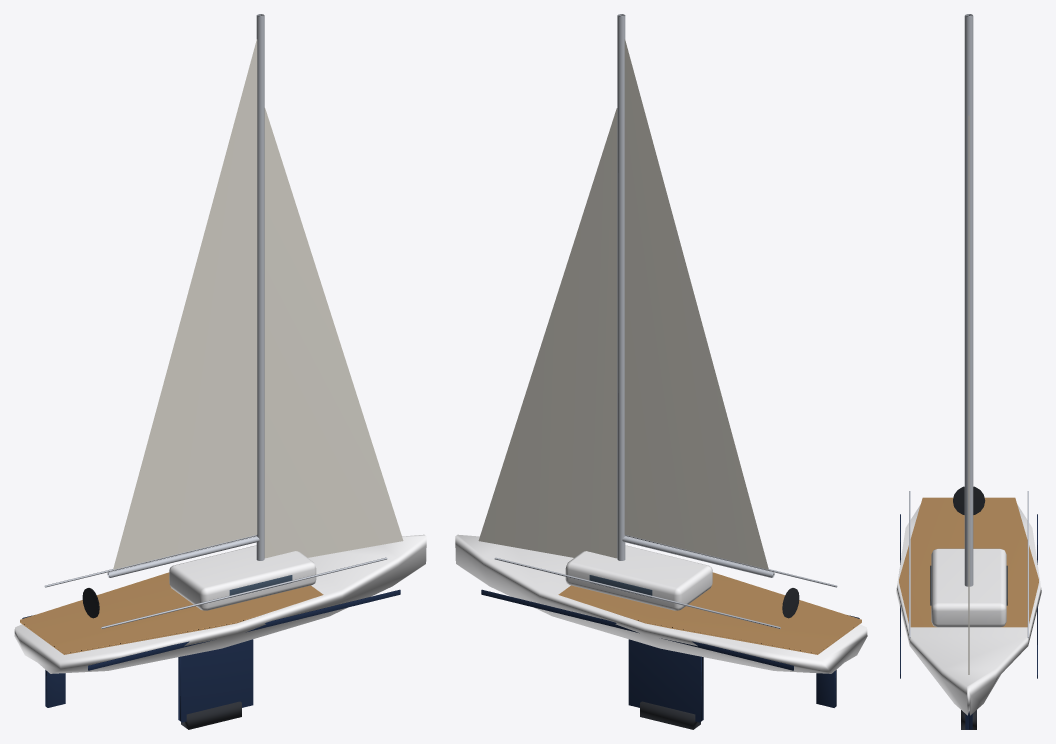
File: sailboat.glb
3 views of the same model, side by side, from view 1: azimuth 30°, elevation 25°; view 2: azimuth 150°, elevation 25°; view 3: azimuth 270°, elevation 25° (orthographic). The views are drawn at different scales.
Visible parts, largest first — view 1: body; view 2: body; view 3: body.
Boxes of the visible parts, bbox=[...] form: body: bbox=[14, 14, 426, 729]; body: bbox=[455, 14, 867, 729]; body: bbox=[896, 14, 1041, 729].
Size of the model in its own units: 87 by 148 by 27.
